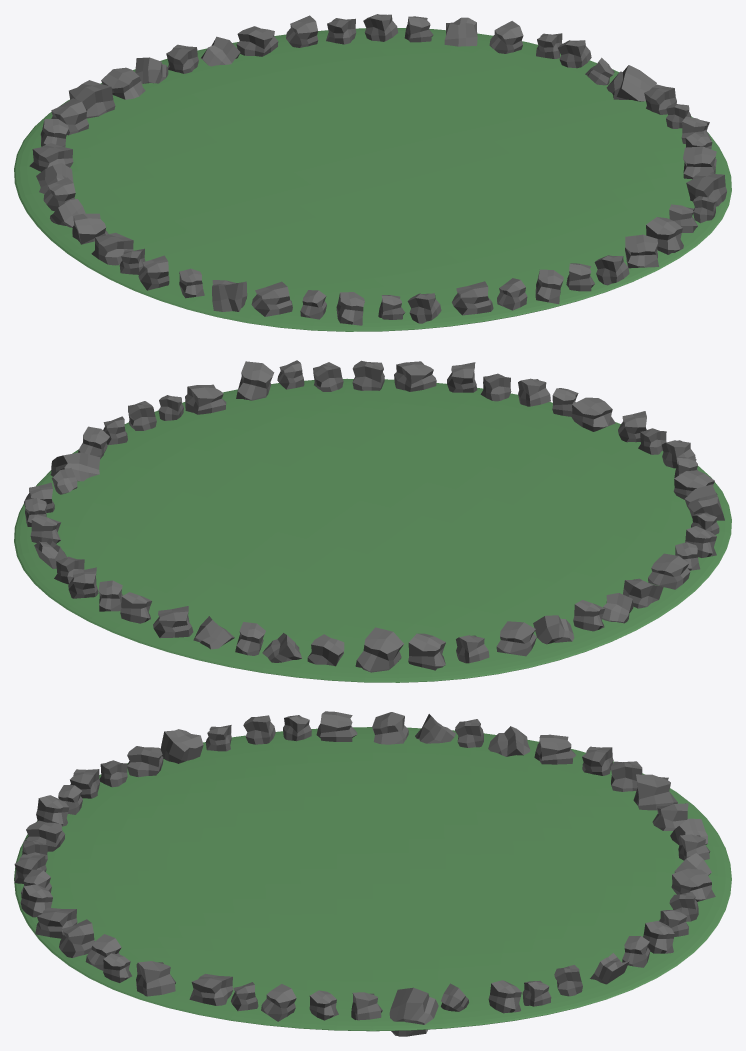
File: terrain.glb
3 renders of one model, top to bottom at view 1: azimuth 30°, elevation 25°; view 2: azimuth 150°, elevation 25°; view 3: azimuth 270°, elevation 25°, orthographic.
Visible parts, largest first — view 1: Terrain; view 2: Terrain; view 3: Terrain.
Part boxes in pixels (x1,y1,x2,y2): Terrain: (14, 14, 731, 331); Terrain: (14, 360, 731, 682); Terrain: (14, 711, 731, 1036).
Bounding box in the file's own units: 26.6 × 1.94 × 26.6.
